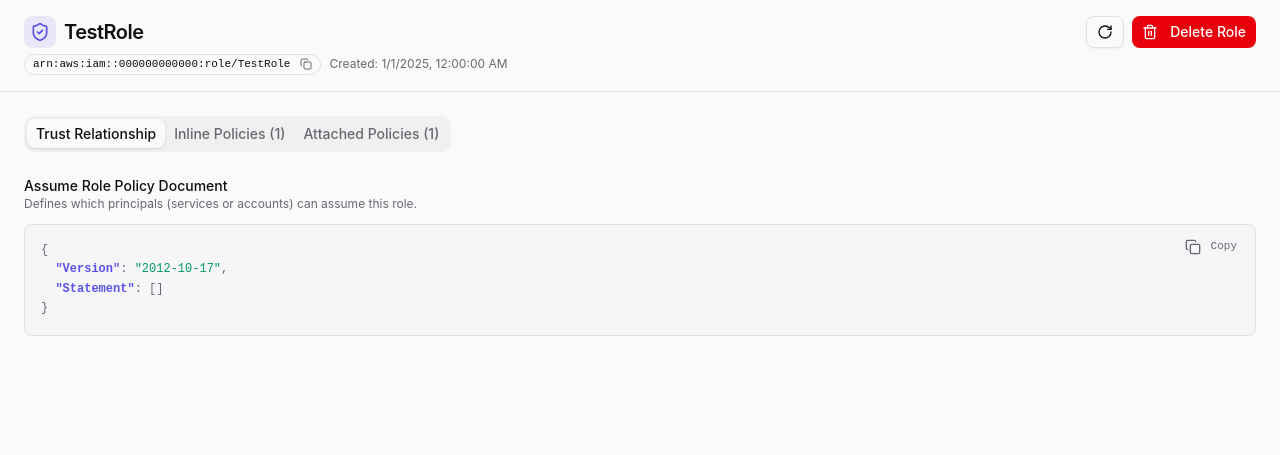
Scenario: RoleView › switches to inline policies tab and displays policies
Click the tab "Inline Policies (1)": click(230, 134) left=165, top=119, right=294, bottom=148
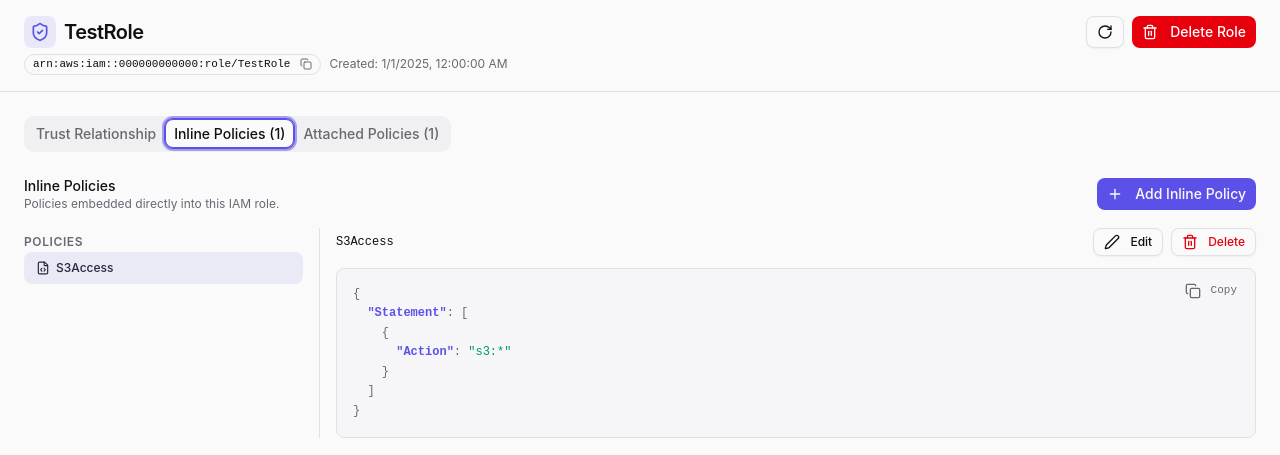
Now the 2nd text "S3Access" is shown, box left=56, top=260, right=114, bottom=276
Now the text "\"s3:*\"" is shown, box left=468, top=345, right=511, bottom=359
